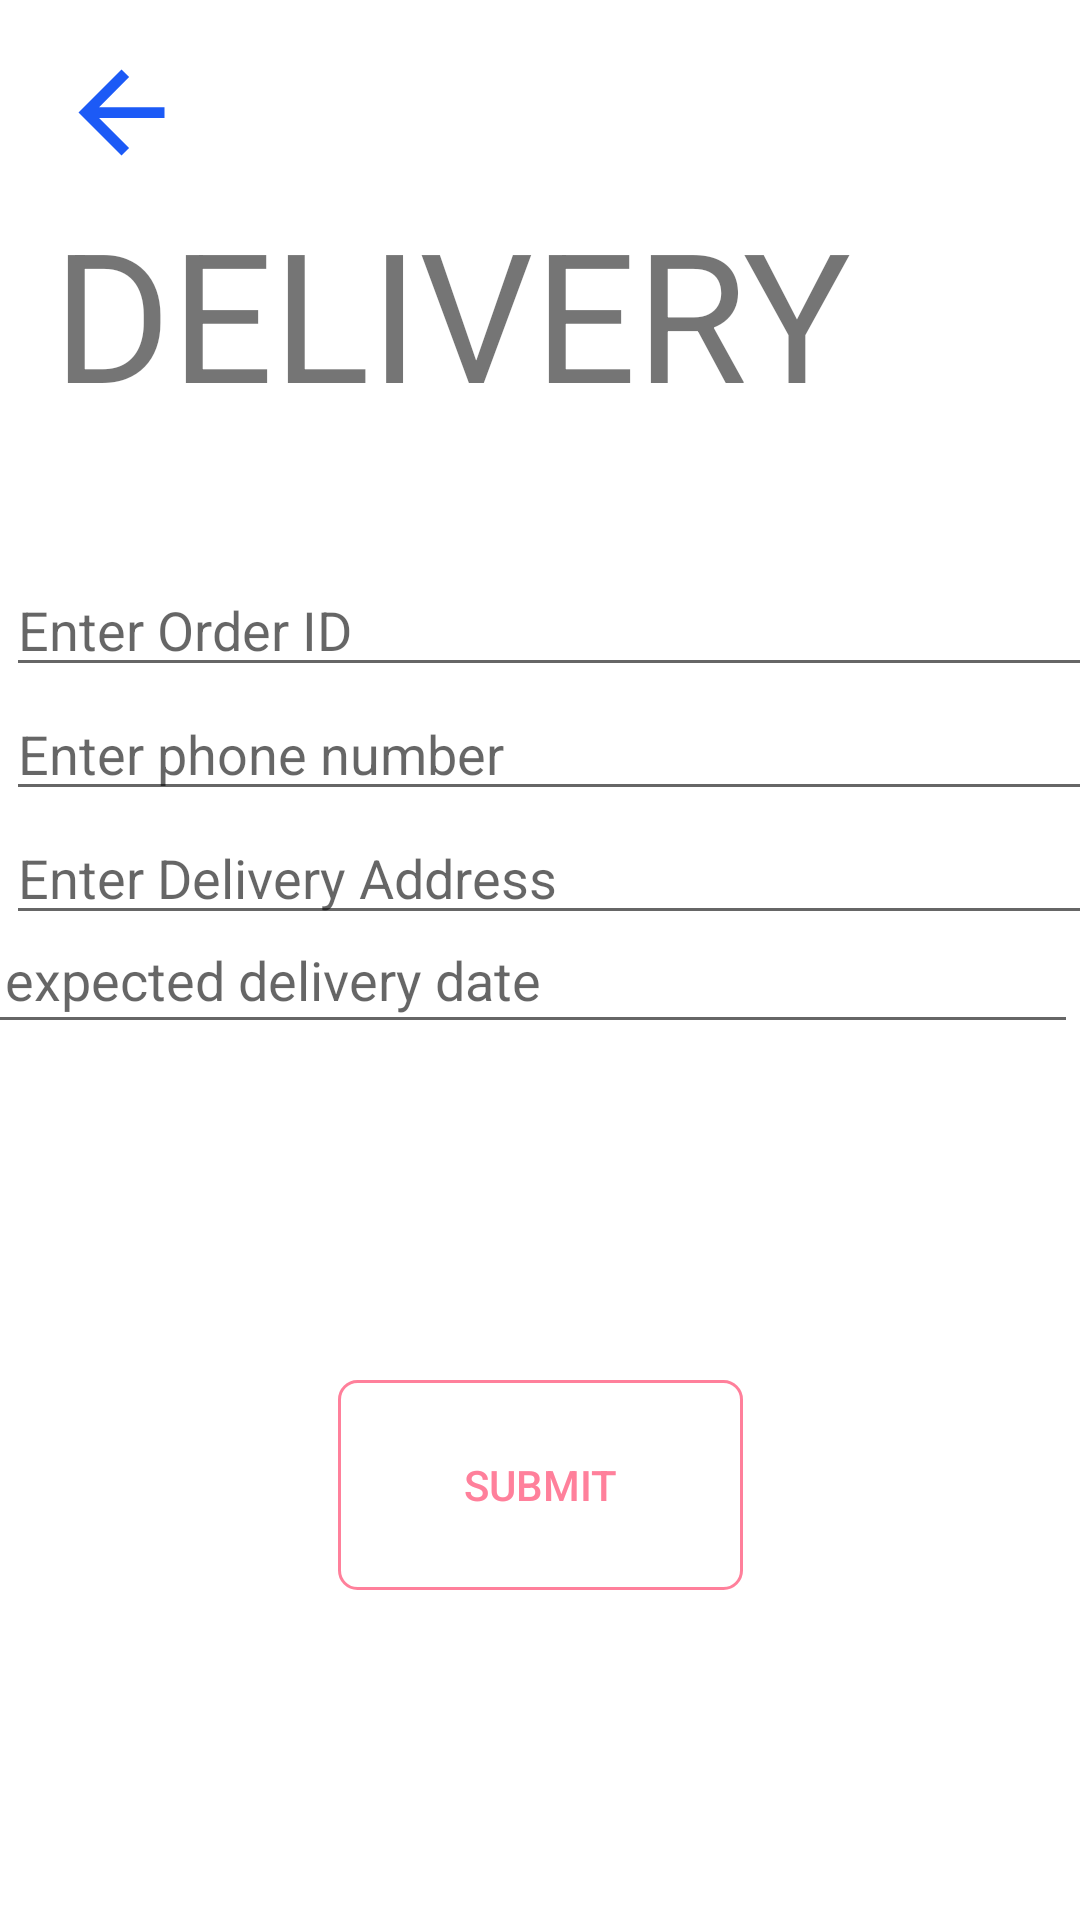

Screen size 1080x1920. Icon name, then its center in pixels as (x,y):
arrow back: (121,112)
